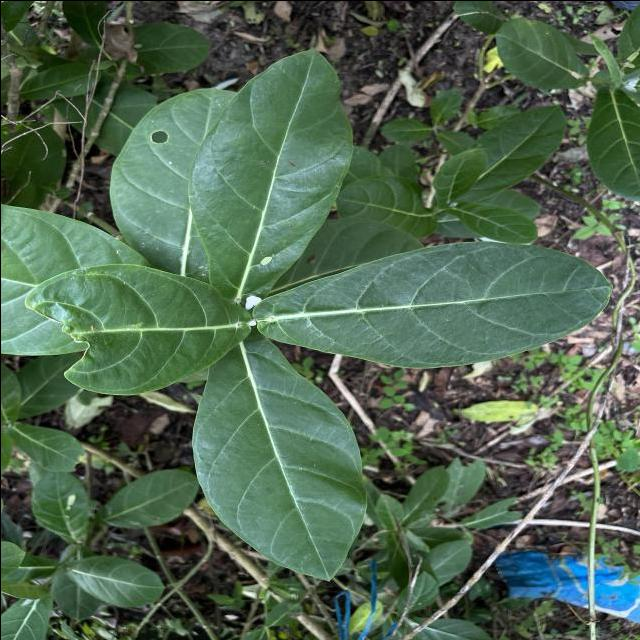Calotropis gigantea: (250, 238, 612, 370), (187, 45, 355, 304), (188, 348, 368, 582), (107, 84, 230, 280), (463, 103, 568, 203), (492, 14, 590, 92), (99, 467, 200, 528), (588, 89, 639, 206), (66, 554, 165, 610)
